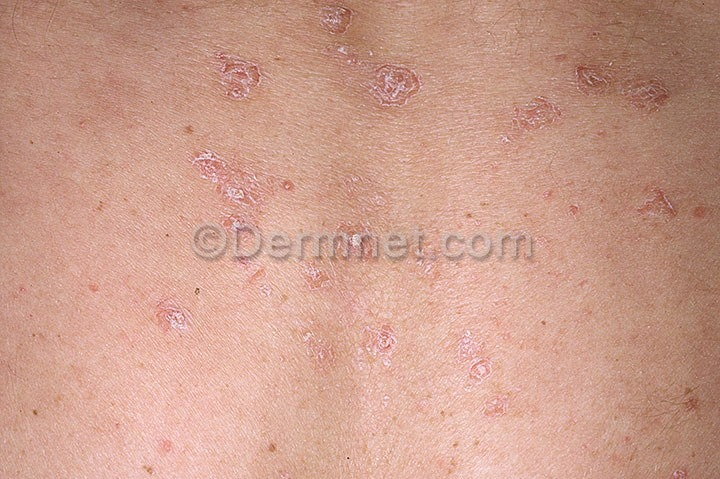Psoriasis: (502, 49, 700, 180), (306, 214, 437, 380), (309, 3, 453, 131), (182, 137, 302, 236), (448, 322, 542, 439), (566, 181, 720, 238), (645, 369, 720, 479), (198, 32, 289, 118), (131, 273, 224, 346)
